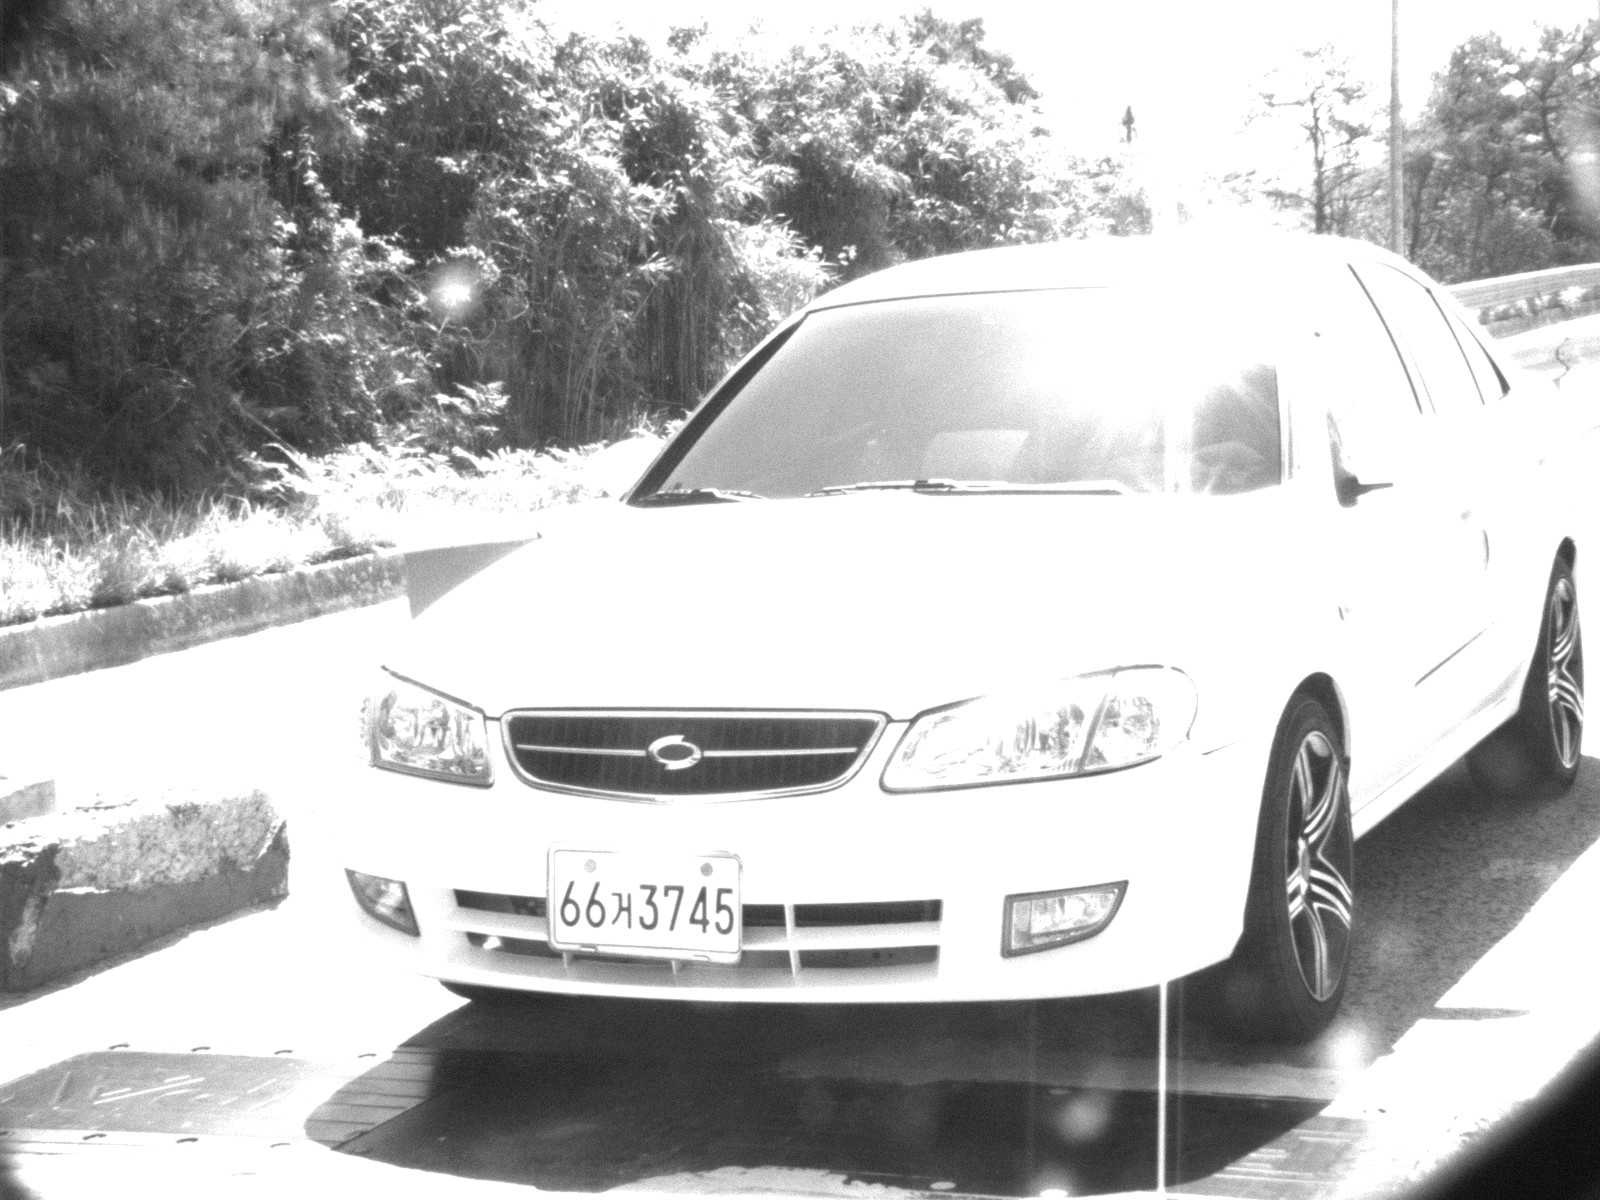car: (332, 225, 1600, 1055)
plate: (542, 842, 752, 962)
